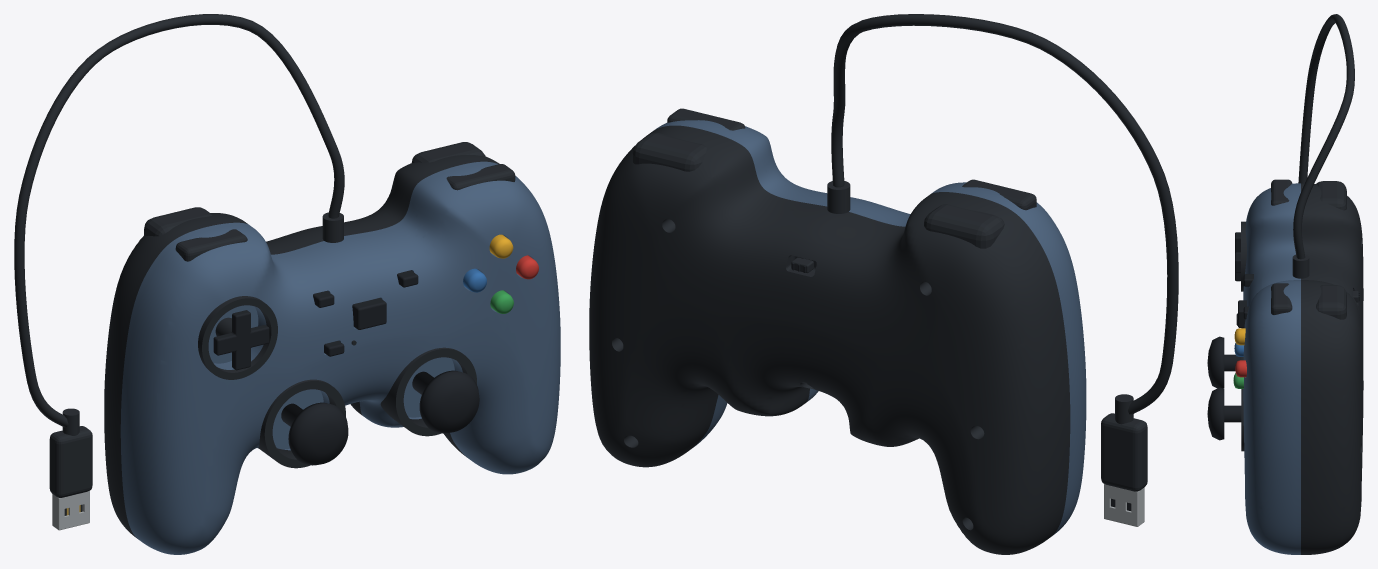
3 views of the same model, side by side, from view 1: azimuth 30°, elevation 25°; view 2: azimuth 150°, elevation 25°; view 3: azimuth 270°, elevation 25° (orthographic). The views are drawn at different scales.
Visible parts, largest first — view 1: Unified closed two-tone controller shell, Complete fixed controller cable, Captured analog stick and domed cap 0.025, Captured analog stick and domed cap -0.025, Generic USB cable plug molding, Circular D pad surround, Complete analog stick socket 0.025, Complete analog stick socket -0.025, Unmarked raised cross D pad, Generic hollow USB A plug shell, Upper shoulder bumper -0.051, Rear curved trigger -0.051 (+3 smaller); view 2: Unified closed two-tone controller shell, Complete fixed controller cable, Generic USB cable plug molding, Rear curved trigger -0.051, Rear curved trigger 0.051, Generic hollow USB A plug shell, Upper shoulder bumper -0.051; view 3: Unified closed two-tone controller shell, Complete fixed controller cable, Captured analog stick and domed cap 0.025, Captured analog stick and domed cap -0.025, Rear curved trigger 0.051, Rear curved trigger -0.051, Upper shoulder bumper 0.051, Upper shoulder bumper -0.051, Captured cable exit strain relief, Circular D pad surround, Unmarked raised cross D pad.
Part boxes in pixels (x1,y1,x2,y2): Unified closed two-tone controller shell: (104,154,560,554); Complete fixed controller cable: (14,14,344,427); Captured analog stick and domed cap 0.025: (412,370,479,433); Captured analog stick and domed cap -0.025: (281,402,348,465); Generic USB cable plug molding: (49,426,92,497); Circular D pad surround: (198,296,277,379); Complete analog stick socket 0.025: (380,347,476,436); Complete analog stick socket -0.025: (258,379,345,468); Unmarked raised cross D pad: (213,310,269,370); Generic hollow USB A plug shell: (52,490,89,530); Upper shoulder bumper -0.051: (175,229,247,261); Rear curved trigger -0.051: (144,207,212,236); Unified closed two-tone controller shell: (589,120,1086,554); Complete fixed controller cable: (831,14,1178,414); Generic USB cable plug molding: (1101,413,1147,491); Rear curved trigger -0.051: (924,204,1004,248); Rear curved trigger 0.051: (632,133,706,171); Generic hollow USB A plug shell: (1104,484,1144,526); Upper shoulder bumper -0.051: (962,179,1036,210); Unified closed two-tone controller shell: (1243,183,1363,554); Complete fixed controller cable: (1293,14,1354,259); Captured analog stick and domed cap 0.025: (1207,387,1241,440); Captured analog stick and domed cap -0.025: (1207,336,1241,388); Rear curved trigger 0.051: (1316,285,1346,319); Rear curved trigger -0.051: (1316,181,1346,210); Upper shoulder bumper 0.051: (1271,283,1292,314); Upper shoulder bumper -0.051: (1271,179,1292,205); Captured cable exit strain relief: (1292,254,1309,278); Circular D pad surround: (1241,221,1246,291); Unmarked raised cross D pad: (1235,232,1240,281).
Size of the model in its own units: 0.2011 by 0.1815 by 0.0647.
